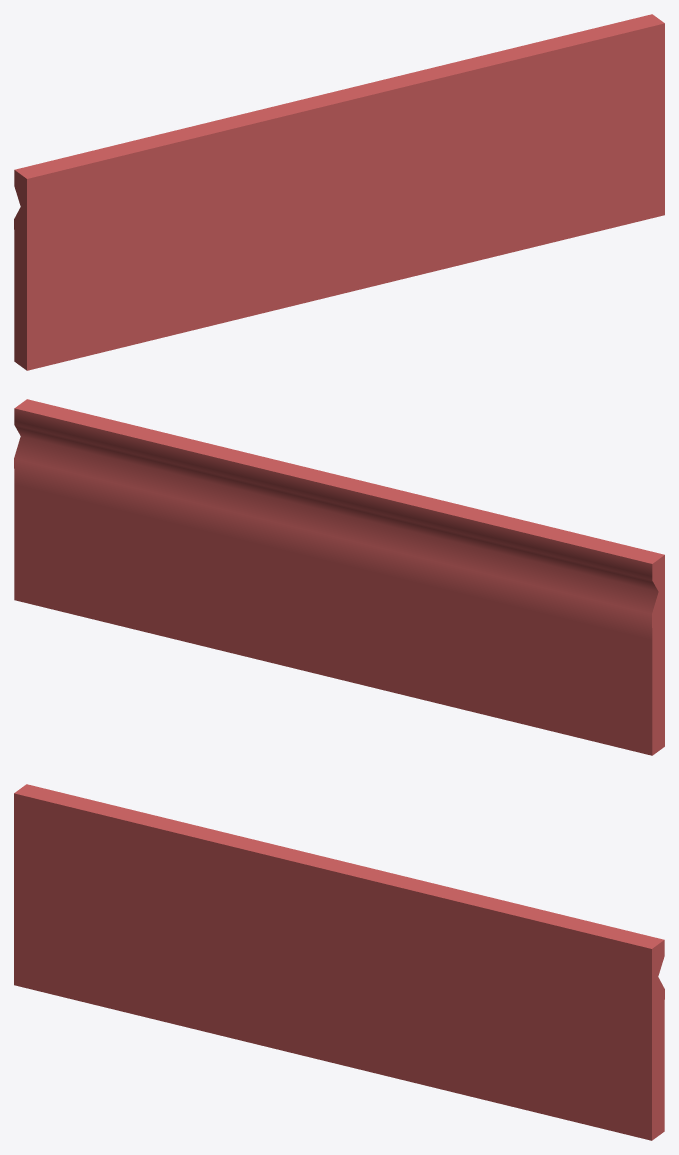
Rendered from PickUp_BackDoor.fbx.
The picture shows the model from 3 angles, top to bottom: view 1: azimuth 30°, elevation 25°; view 2: azimuth 150°, elevation 25°; view 3: azimuth 330°, elevation 25°; orthographic projection.
Parts seen in each view (by area): view 1: PickUp_BackDoor; view 2: PickUp_BackDoor; view 3: PickUp_BackDoor.
Part boxes in pixels (x1,y1,x2,y2): PickUp_BackDoor: (14,14,664,370); PickUp_BackDoor: (14,399,664,755); PickUp_BackDoor: (14,784,664,1140).
Bounding box in the file's own units: 137 × 39.47 × 4.87.
